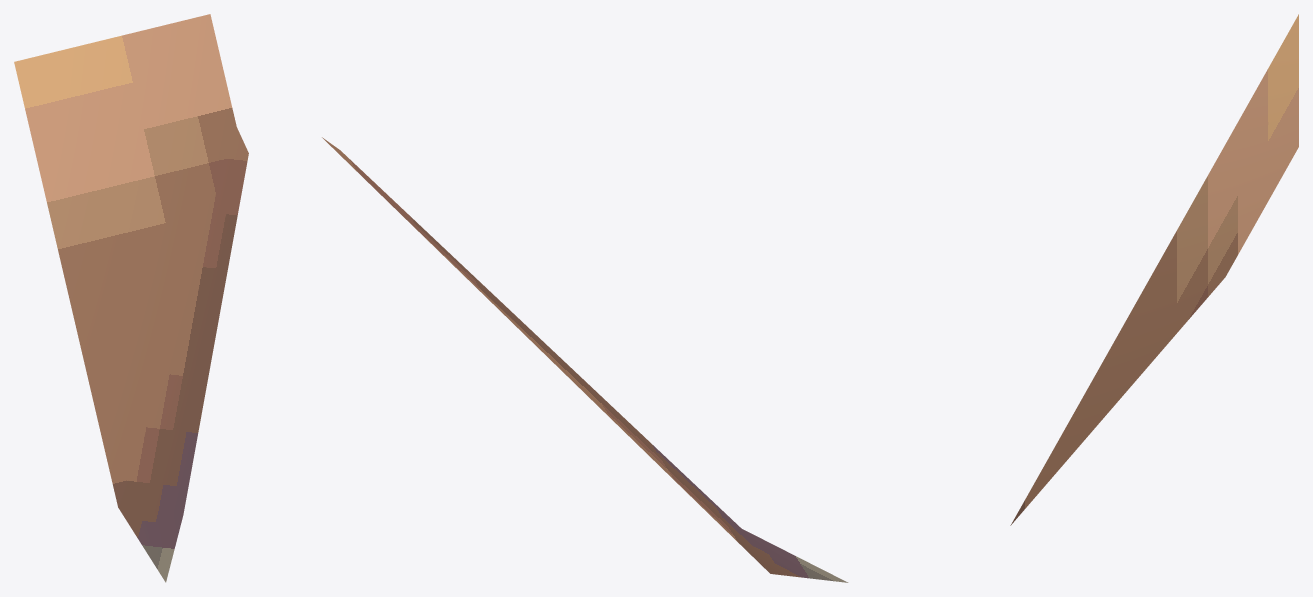
3 views of the same model, side by side, from view 1: azimuth 30°, elevation 25°; view 2: azimuth 150°, elevation 25°; view 3: azimuth 270°, elevation 25° (orthographic). The views are drawn at different scales.
Bounding box in the file's own units: 0.5 × 0.9971 × 0.6699.
Materials: 1 (1 with a texture image).
